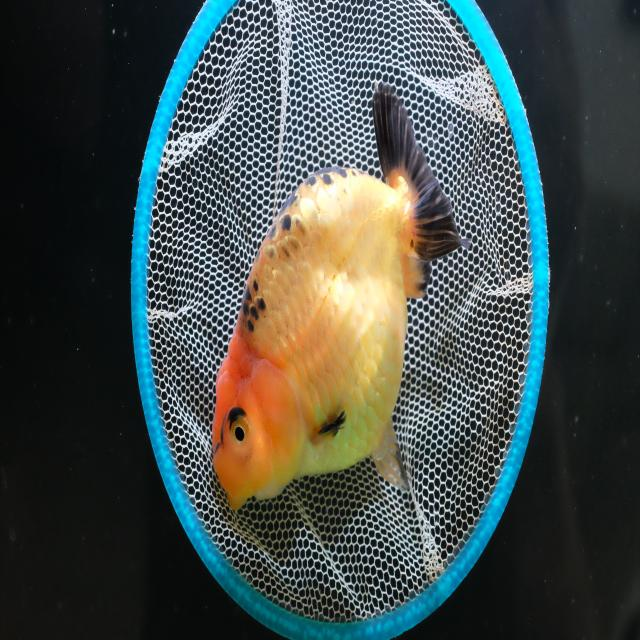Goldfish: (210, 82, 472, 514)
